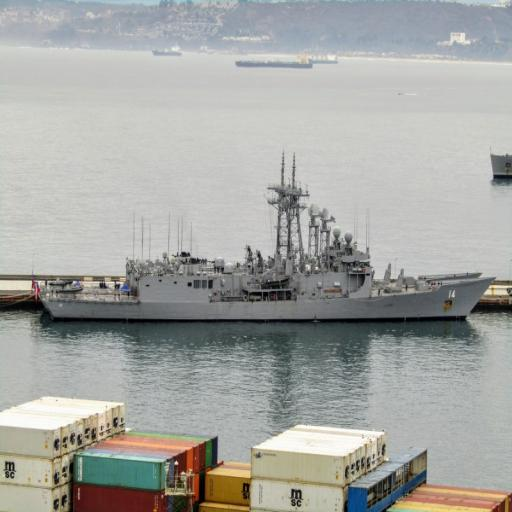Fragata: (37, 150, 498, 329)
